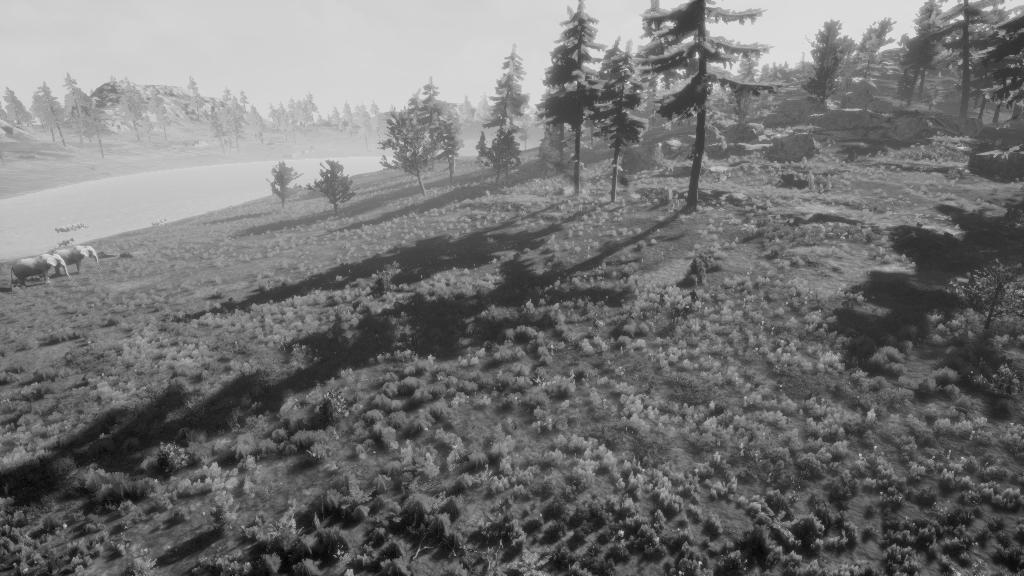Fire: (550, 171, 597, 211), (597, 174, 650, 209)
elephant: (2, 251, 80, 287), (44, 244, 103, 274)
human: (678, 302, 692, 327), (656, 287, 669, 310), (590, 312, 603, 334), (670, 302, 681, 327), (689, 287, 701, 307), (625, 304, 637, 322)
lion: (55, 237, 77, 249)
rhinoceros: (67, 220, 90, 233), (54, 224, 77, 235)
zebra: (147, 217, 170, 228)
